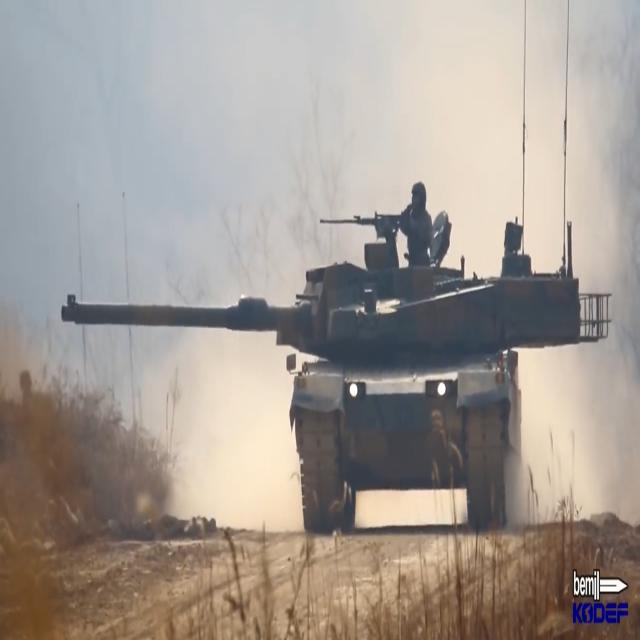korea tank: (59, 172, 612, 530)
